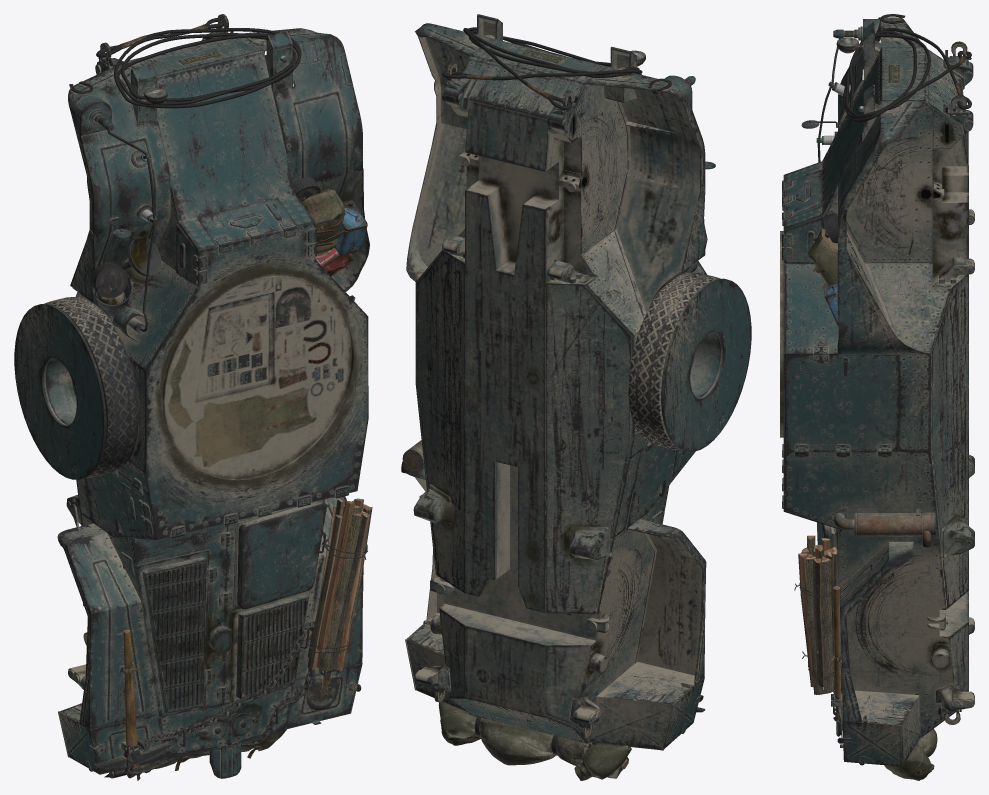
The model's file is Hull.glb.
3 renders of one model, left to right at view 1: azimuth 30°, elevation 25°; view 2: azimuth 150°, elevation 25°; view 3: azimuth 270°, elevation 25°, orthographic. The views are drawn at different scales.
Parts seen in each view (by area): view 1: set_0_group_0; view 2: set_0_group_0; view 3: set_0_group_0.
Part boxes in pixels (left/top/right/bottom): set_0_group_0: left=14, top=14, right=372, bottom=780; set_0_group_0: left=401, top=14, right=751, bottom=780; set_0_group_0: left=780, top=14, right=974, bottom=780.
Size of the model in its own units: 2.2 by 5.2 by 1.33.
Materials: 1 (1 with a texture image).
